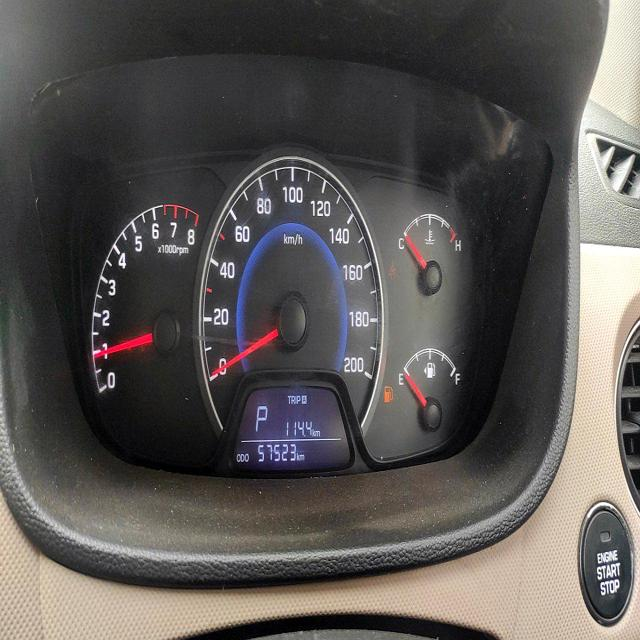odometer: (256, 441, 296, 464)
